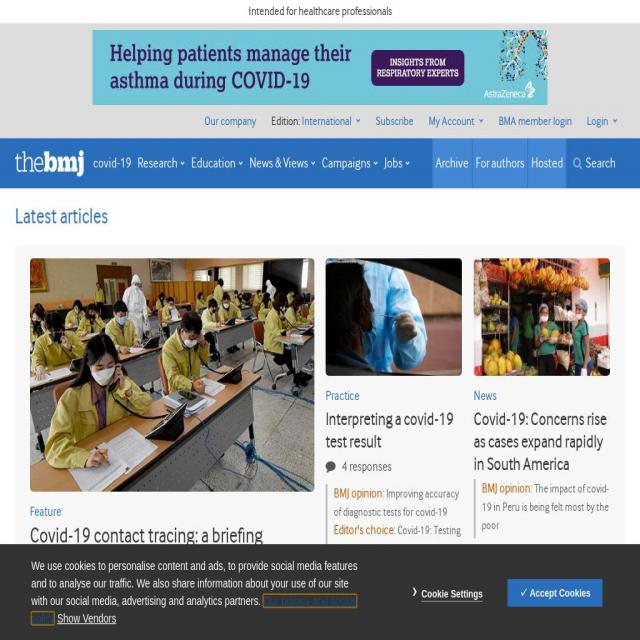login-option: (490, 110, 620, 133)
navigation-blocks: (28, 253, 628, 545)
navigation-links: (195, 105, 640, 145), (97, 148, 565, 182)
search: (570, 150, 625, 180)
